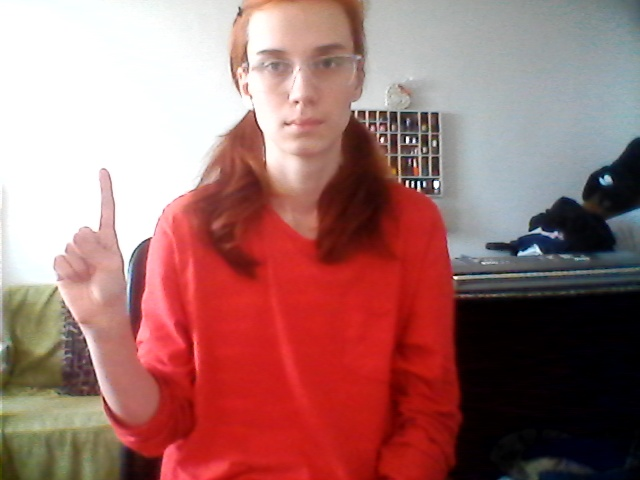i: (41, 162, 151, 325)
